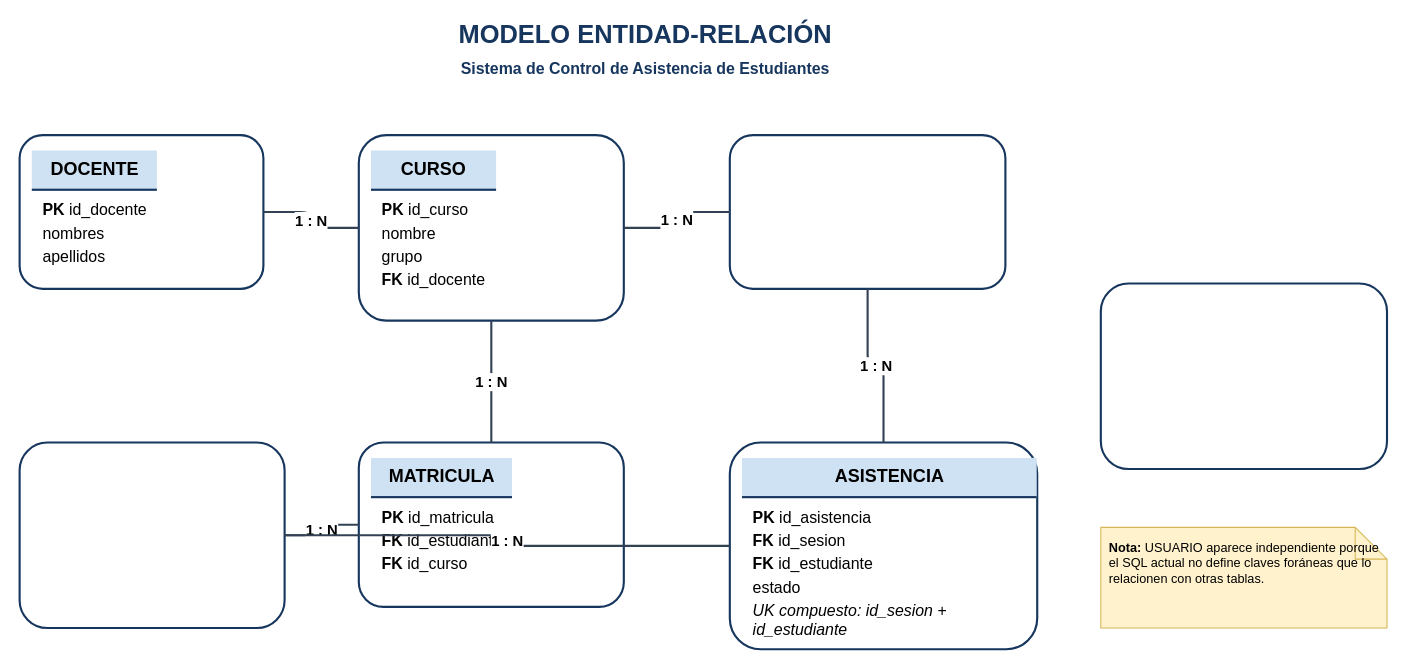
Image size: 1406x668. Some labels were removed from this diagram. The centre of each missing label's shape, as x and y in pixels:
ESTUDIANTE PK id_estudiante UK codigo nombres apellidos: [151,535]
SESION_CLASE PK id_sesion FK id_curso fecha: [867,211]
USUARIO PK id_usuario UK nombre_usuario contrasena_hash rol: [1243,376]
